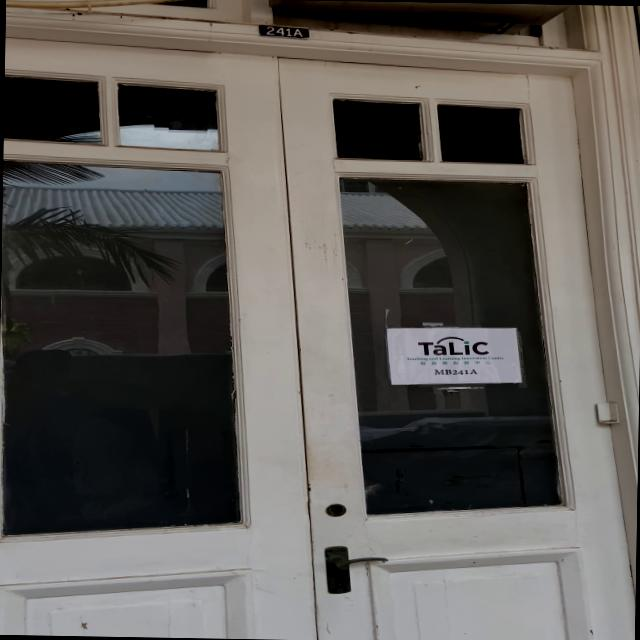room241a: (255, 22, 313, 42)
